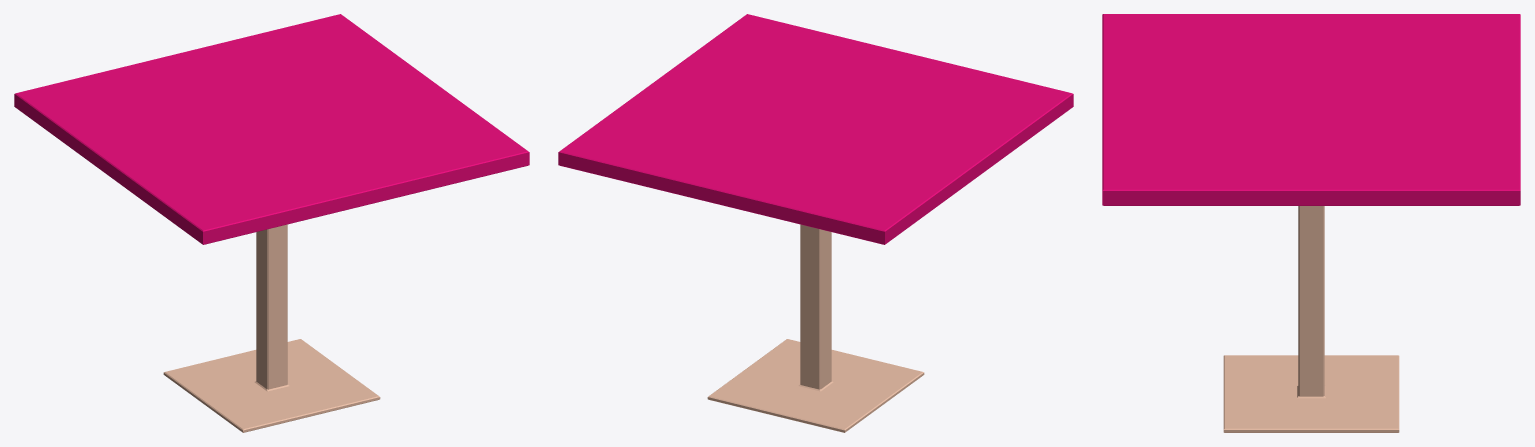
Rendered from tableA.fbx.
3 views of the same model, side by side, from view 1: azimuth 30°, elevation 25°; view 2: azimuth 150°, elevation 25°; view 3: azimuth 270°, elevation 25° (orthographic). The views are drawn at different scales.
Parts seen in each view (by area): view 1: tableA; view 2: tableA; view 3: tableA.
Boxes of the visible parts, left/top/right/bottom form: tableA: left=14, top=14, right=529, bottom=432; tableA: left=558, top=14, right=1073, bottom=432; tableA: left=1102, top=14, right=1520, bottom=432.
Size of the model in its own units: 90.9 by 71.67 by 90.9.
